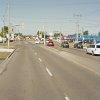Tree: (35, 28, 53, 38)
